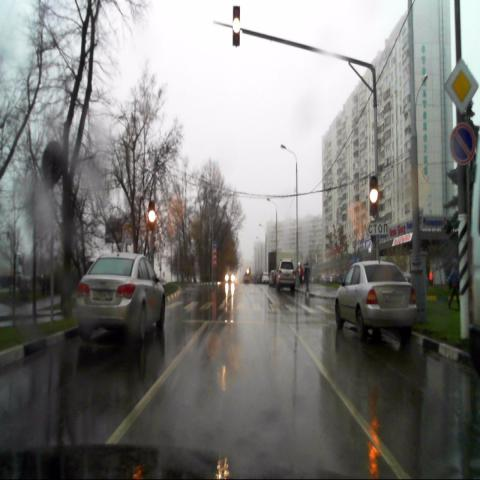3_28: (450, 123, 474, 166)
